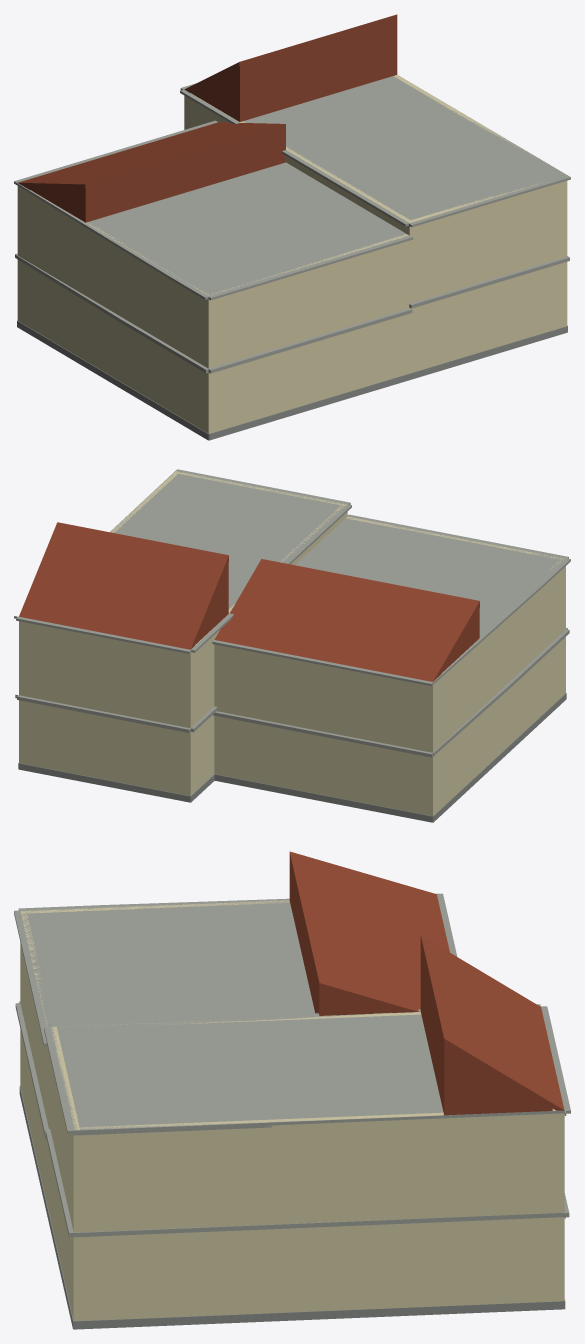
File: masa_1138209.glb
3 views of the same model, one above another, from view 1: azimuth 30°, elevation 25°; view 2: azimuth 150°, elevation 25°; view 3: azimuth 270°, elevation 25° (orthographic). The views are drawn at different scales.
Visible parts, largest first — view 1: garden_rear:0/edge1/z0/garden_rear:0/edge1/z0/wall_0_0, roof/street_rear:0/roof_slab#0001, street_rear:0/edge1/z0/street_rear:0/edge1/z0/wall_0_0, roof/garden_rear:0/roof_slab#0001, garden_rear:0/edge0/z0/garden_rear:0/edge0/z0/wall_0_0, roof/street_front:0/tile_ridge#0001, garden_front:0/edge0/z0/garden_front:0/edge0/z0/wall_0_0, roof/garden_front:0/tile_ridge#0001, roof/garden_front:0/tile_roof#0001, garden_rear:0/edge1/z0/plinth#0001, street_rear:0/edge0/z0/street_rear:0/edge0/z0/wall_0_0, garden_rear:0/edge1/z0/floor_slab#0001 (+11 smaller); view 2: garden_front:0/edge3/z0/garden_front:0/edge3/z0/wall_0_0, street_front:0/edge3/z0/street_front:0/edge3/z0/wall_0_0, roof/garden_front:0/tile_roof#0001, roof/street_front:0/tile_roof#0001, roof/garden_rear:0/roof_slab#0001, roof/street_rear:0/roof_slab#0001, garden_rear:0/edge0/z0/garden_rear:0/edge0/z0/wall_0_0, garden_front:0/edge0/z0/garden_front:0/edge0/z0/wall_0_0, street_front:0/edge0/z0/street_front:0/edge0/z0/wall_0_0, garden_front:0/edge3/z0/plinth#0001, garden_front:0/edge3/z0/floor_slab#0001, street_front:0/edge3/z0/plinth#0001 (+15 smaller); view 3: street_rear:0/edge2/z0/street_rear:0/edge2/z0/wall_0_0, roof/street_rear:0/roof_slab#0001, roof/garden_rear:0/roof_slab#0001, street_front:0/edge2/z0/street_front:0/edge2/z0/wall_0_0/cor, roof/garden_front:0/tile_roof#0001, roof/street_front:0/tile_roof#0001, roof/street_front:0/tile_ridge#0001, street_rear:0/edge1/z0/street_rear:0/edge1/z0/wall_0_0, garden_rear:0/edge1/z0/garden_rear:0/edge1/z0/wall_0_0, street_rear:0/edge2/z0/plinth#0001, roof/garden_front:0/tile_ridge#0001, street_rear:0/edge2/z0/floor_slab#0001 (+11 smaller).
Part boxes in pixels (box(x1,y1,x2,y2)): garden_rear:0/edge1/z0/garden_rear:0/edge1/z0/wall_0_0: box(206, 234, 409, 433); roof/street_rear:0/roof_slab#0001: box(243, 76, 566, 226); street_rear:0/edge1/z0/street_rear:0/edge1/z0/wall_0_0: box(407, 181, 567, 373); roof/garden_rear:0/roof_slab#0001: box(86, 162, 408, 299); garden_rear:0/edge0/z0/garden_rear:0/edge0/z0/wall_0_0: box(85, 222, 212, 433); roof/street_front:0/tile_ridge#0001: box(191, 18, 397, 121); garden_front:0/edge0/z0/garden_front:0/edge0/z0/wall_0_0: box(17, 186, 85, 360); roof/garden_front:0/tile_ridge#0001: box(31, 128, 285, 222); roof/garden_front:0/tile_roof#0001: box(18, 122, 285, 188); garden_rear:0/edge1/z0/plinth#0001: box(208, 373, 409, 440); street_rear:0/edge0/z0/street_rear:0/edge0/z0/wall_0_0: box(240, 121, 413, 234); garden_rear:0/edge1/z0/floor_slab#0001: box(208, 308, 412, 373); garden_front:0/edge3/z0/garden_front:0/edge3/z0/wall_0_0: box(214, 644, 433, 815); street_front:0/edge3/z0/street_front:0/edge3/z0/wall_0_0: box(19, 622, 192, 796); roof/garden_front:0/tile_roof#0001: box(214, 559, 479, 681); roof/street_front:0/tile_roof#0001: box(19, 522, 228, 649); roof/garden_rear:0/roof_slab#0001: box(295, 517, 564, 637); roof/street_rear:0/roof_slab#0001: box(111, 472, 345, 612); garden_rear:0/edge0/z0/garden_rear:0/edge0/z0/wall_0_0: box(480, 558, 565, 772); garden_front:0/edge0/z0/garden_front:0/edge0/z0/wall_0_0: box(428, 643, 479, 816); street_front:0/edge0/z0/street_front:0/edge0/z0/wall_0_0: box(187, 629, 219, 795); garden_front:0/edge3/z0/plinth#0001: box(214, 774, 432, 822); garden_front:0/edge3/z0/floor_slab#0001: box(213, 711, 432, 757); street_front:0/edge3/z0/plinth#0001: box(18, 763, 190, 802); street_rear:0/edge2/z0/street_rear:0/edge2/z0/wall_0_0: box(73, 1112, 444, 1320); roof/street_rear:0/roof_slab#0001: box(50, 1013, 443, 1135); roof/garden_rear:0/roof_slab#0001: box(21, 900, 314, 1026); street_front:0/edge2/z0/street_front:0/edge2/z0/wall_0_0/cor: box(444, 1109, 564, 1306); roof/garden_front:0/tile_roof#0001: box(289, 851, 449, 1012); roof/street_front:0/tile_roof#0001: box(420, 935, 564, 1114); roof/street_front:0/tile_ridge#0001: box(420, 941, 552, 1115); street_rear:0/edge1/z0/street_rear:0/edge1/z0/wall_0_0: box(50, 1026, 79, 1320); garden_rear:0/edge1/z0/garden_rear:0/edge1/z0/wall_0_0: box(20, 913, 50, 1216); street_rear:0/edge2/z0/plinth#0001: box(73, 1306, 444, 1329); roof/garden_front:0/tile_ridge#0001: box(289, 858, 390, 1015); street_rear:0/edge2/z0/floor_slab#0001: box(73, 1217, 444, 1237).
Bounding box in the file's own units: 18.85 × 9.56 × 17.51.
